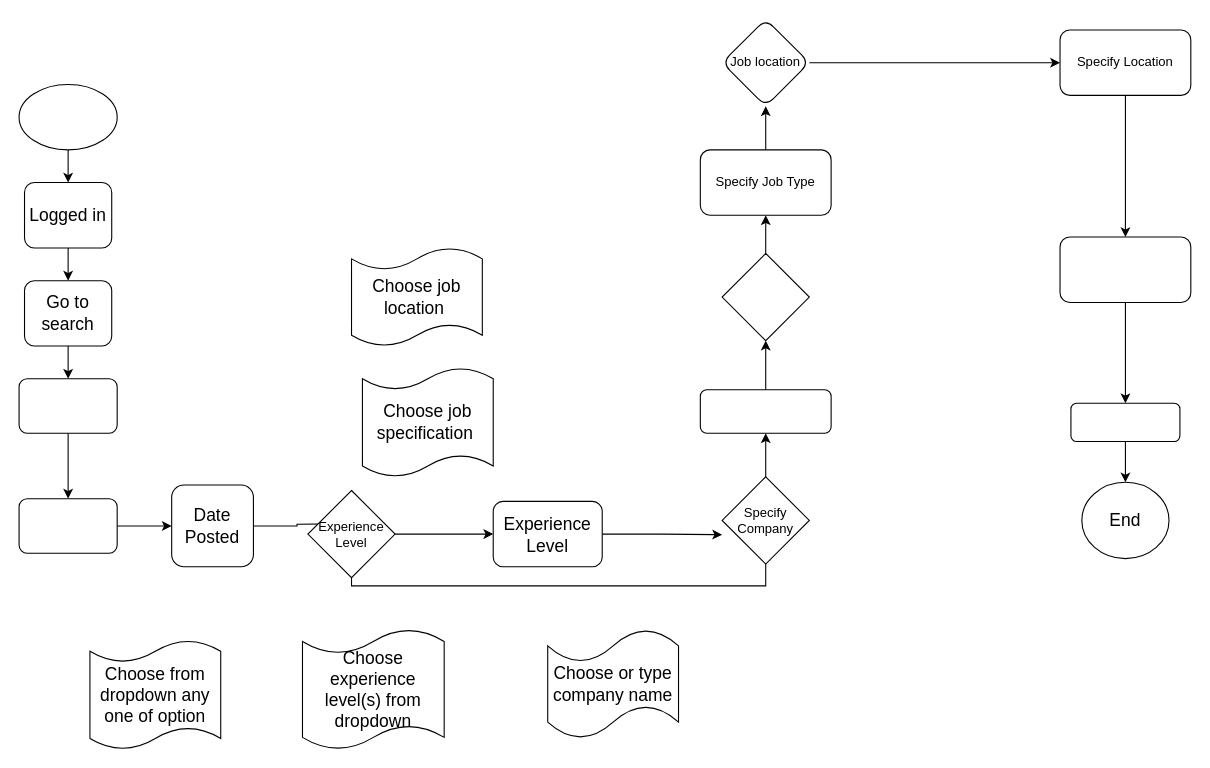
Some shapes in this 1210 by 768 pixel diagram are drawn without their labels. Here are the shapes that lost their labels. From the top down, the centre of each, then its label:
At (x=67, y=116): "Start".
At (x=1125, y=269): "Easy Apply".
At (x=765, y=296): "Job Type".
At (x=67, y=405): "Give job name".
At (x=765, y=411): "Specified Company(ies)".
At (x=1125, y=421): "Set Job Alert".
At (x=67, y=525): "Click on job button".
